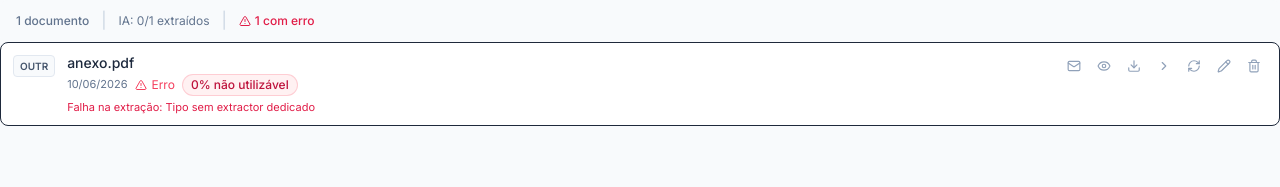
Scenario: DocumentList › allows an analyst to recover a document by reprocessing or correcting its classification
The image size is (1280, 187).
Check: the button named "Reprocessar IA de anexo.pdf" is shown, box [1181,53,1207,79]
Click the button named "Corrigir classificação de anexo.pdf".
click(1224, 66)  # box [1211,53,1237,79]
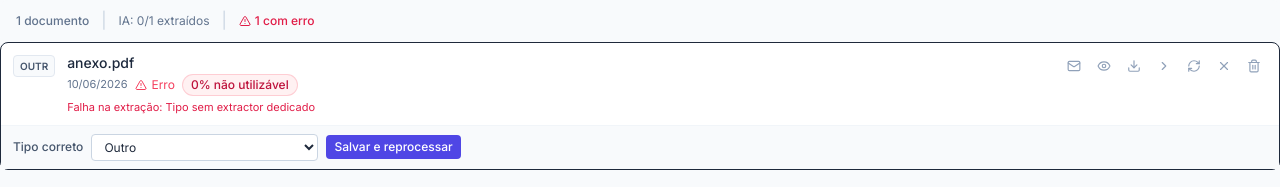
Check: the dropdown labelled "Tipo correto" is shown, box [91,134,318,161]
Check: the button "Salvar e reprocessar" is shown, box [326,135,461,159]
